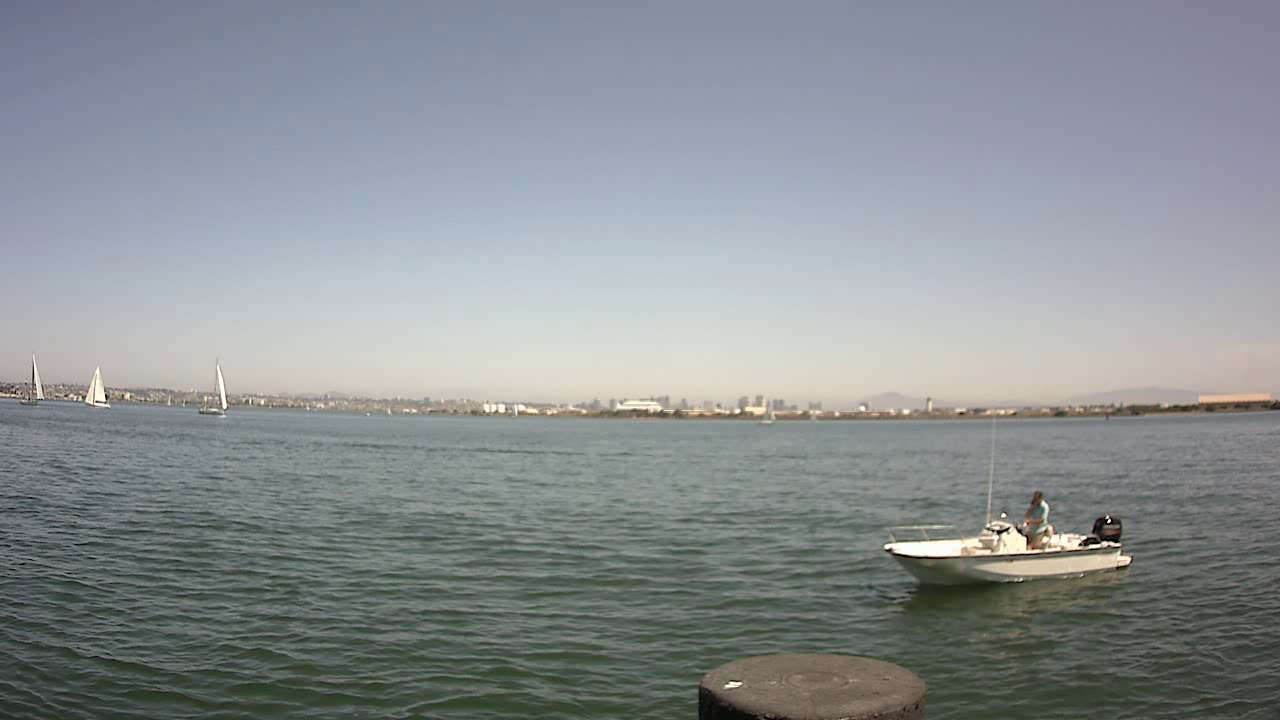target: (879, 482, 1145, 590)
